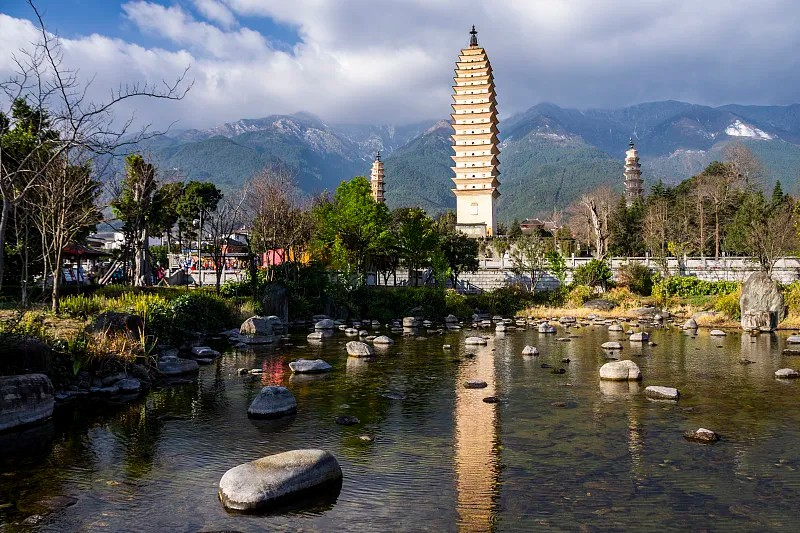ThreePagoda: (449, 23, 502, 238)
